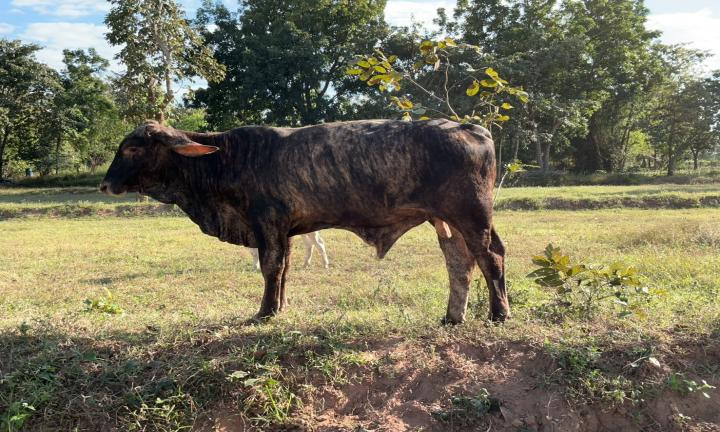Charolais: (100, 119, 510, 323)
